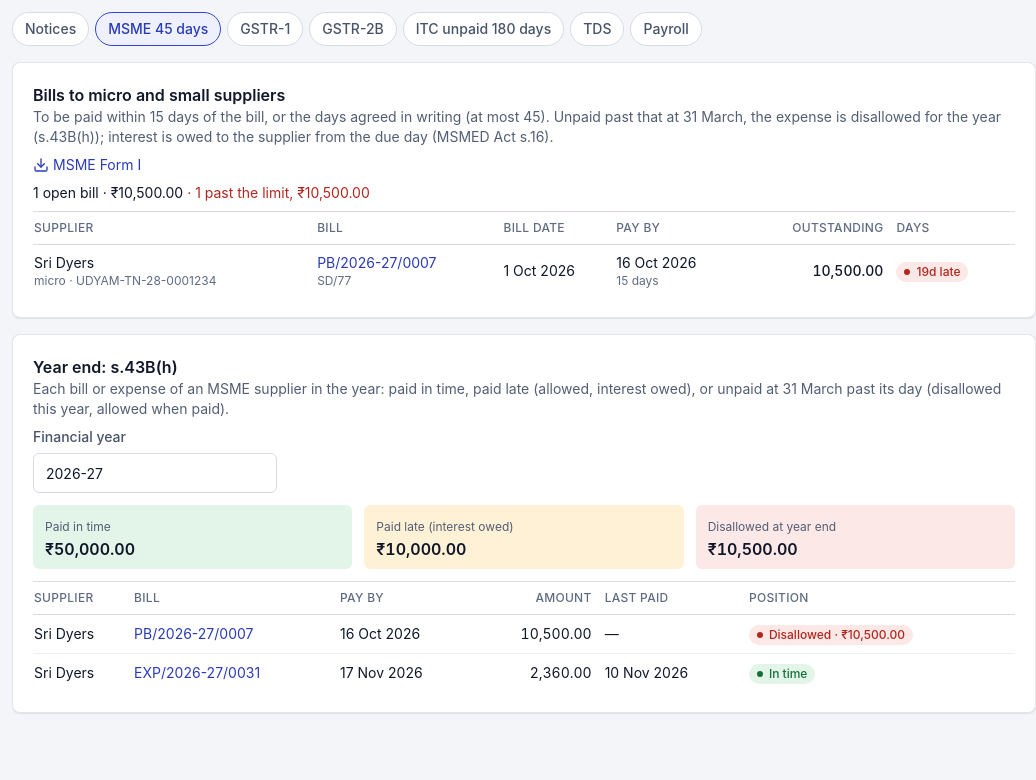
Test: the statutory tab › shows GSTR-1 tables with the preparer's checks and the downloads
Click the button "GSTR-1" at (265, 29), box top-left (227, 12), bottom-right (303, 46)
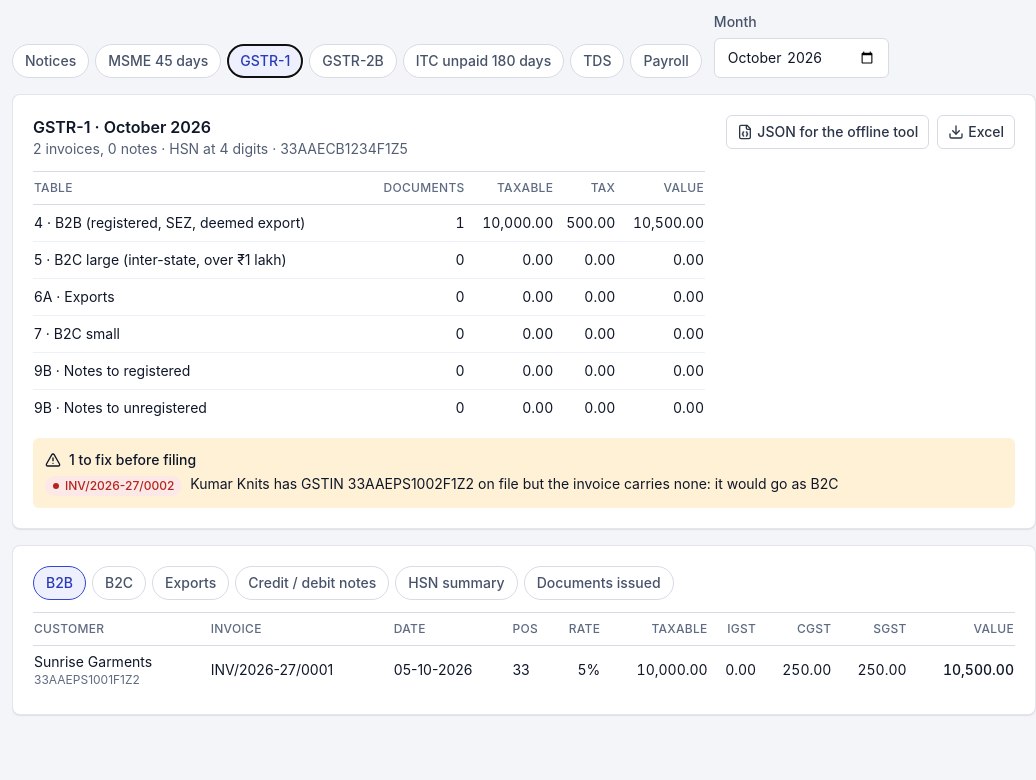
Expected: the text "2 invoices, 0 notes · HSN at 4 digits · 33AAECB1234F1Z5" is shown, top-left (33, 139), bottom-right (408, 159)
Expected: the element named "GSTR-1 checks" shows "1 to fix before filing", top-left (69, 451), bottom-right (196, 468)
Expected: the element named "GSTR-1 checks" shows "Kumar Knits has GSTIN", top-left (190, 475), bottom-right (839, 492)
Click the button "HSN summary" at (457, 583), box top-left (395, 566), bottom-right (518, 600)
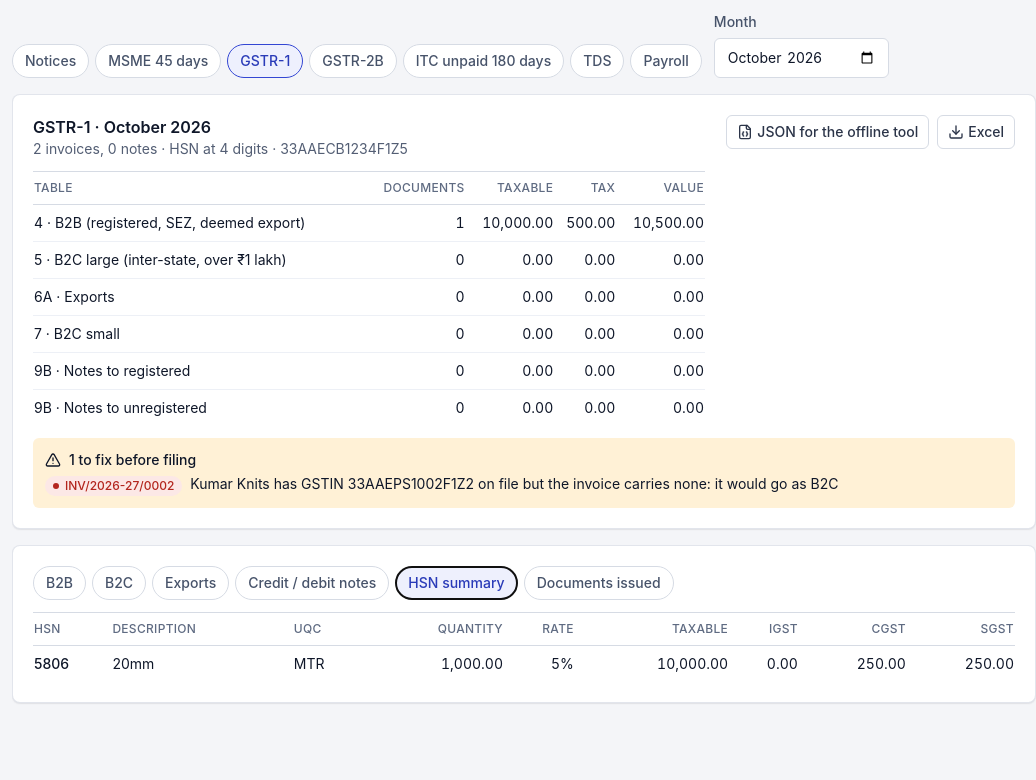
Expected: the text "5806" is shown, top-left (33, 646), bottom-right (111, 682)
